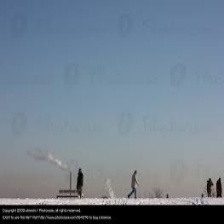smoke: (30, 141, 71, 171)
